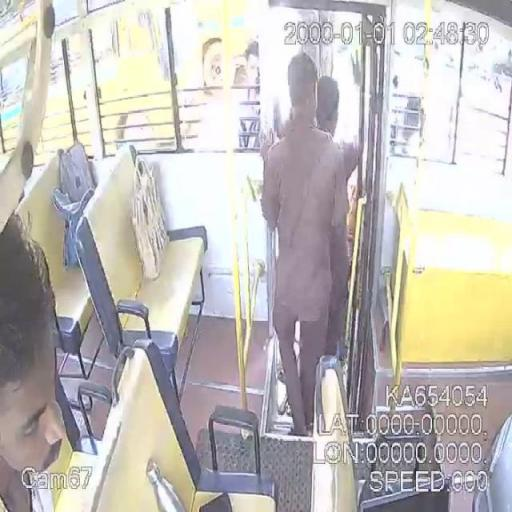persona: (260, 52, 365, 436), (0, 209, 68, 511)
